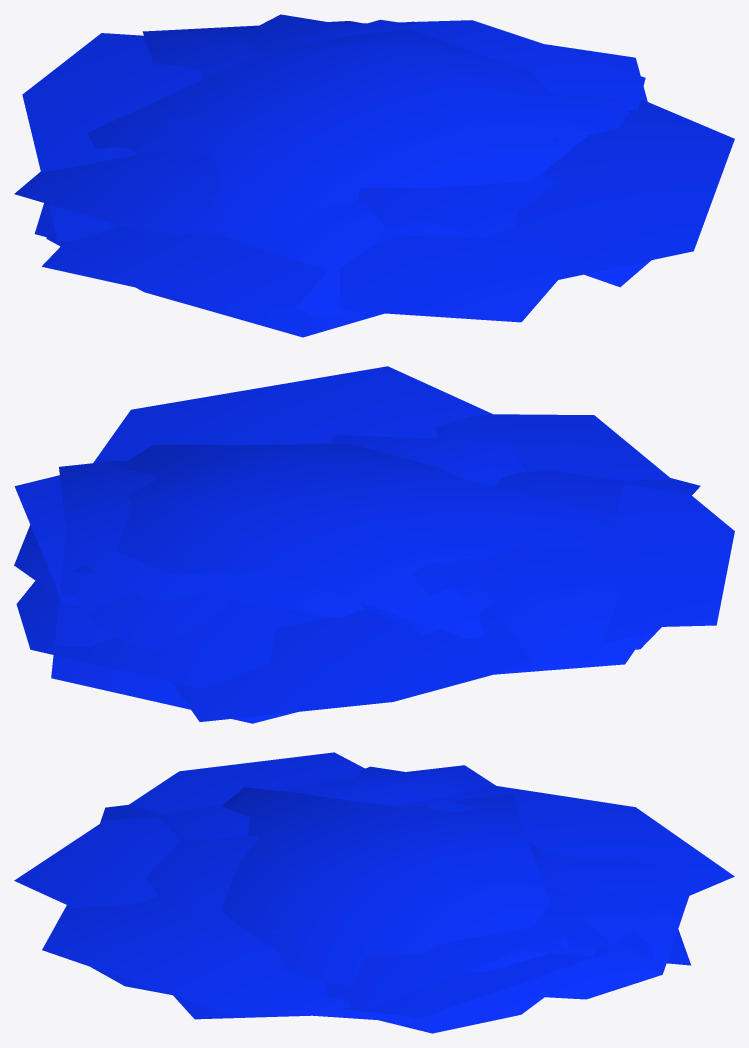
The model's file is DeadLeaves4.fbx.
3 views of the same model, one above another, from view 1: azimuth 30°, elevation 25°; view 2: azimuth 150°, elevation 25°; view 3: azimuth 270°, elevation 25° (orthographic). The views are drawn at different scales.
Parts seen in each view (by area): view 1: DeadLeaves4; view 2: DeadLeaves4; view 3: DeadLeaves4.
Part boxes in pixels (left/top/right/bottom): DeadLeaves4: left=14, top=14, right=734, bottom=337; DeadLeaves4: left=14, top=366, right=734, bottom=723; DeadLeaves4: left=14, top=752, right=734, bottom=1033.
Bounding box in the file's own units: 48.05 × 6.57 × 52.32.
